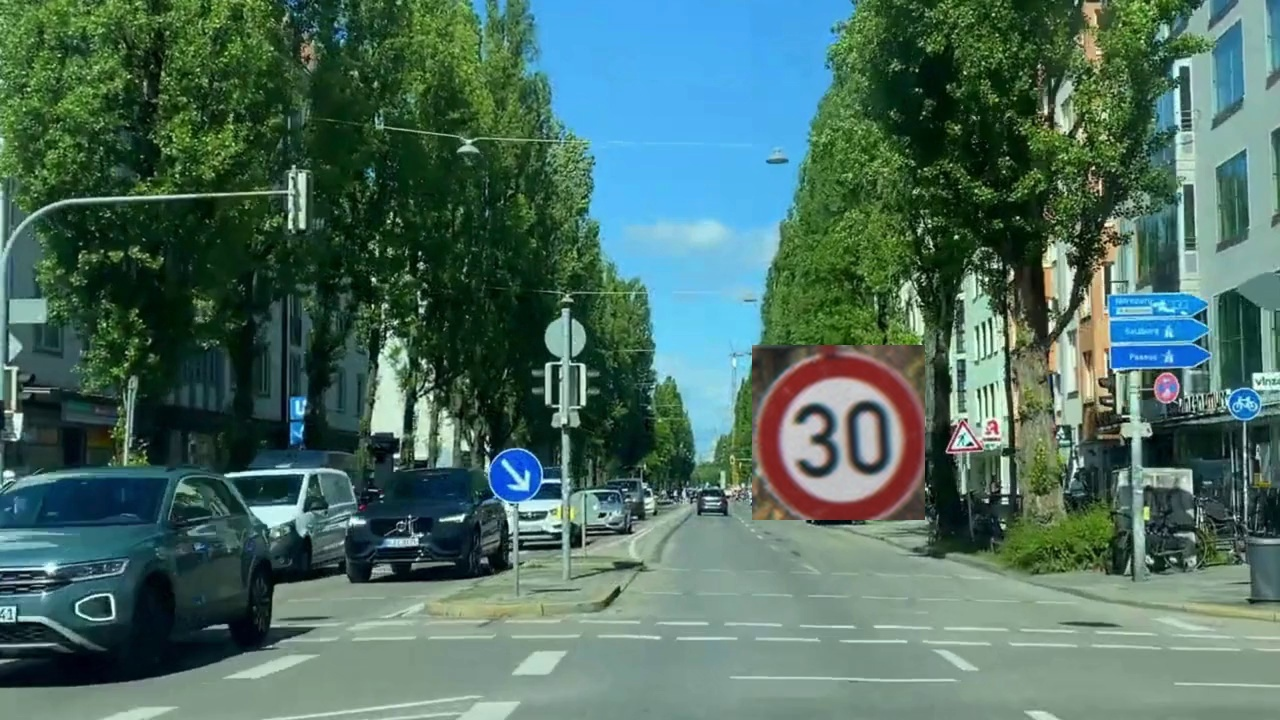Speed 30: (752, 345, 925, 520)
